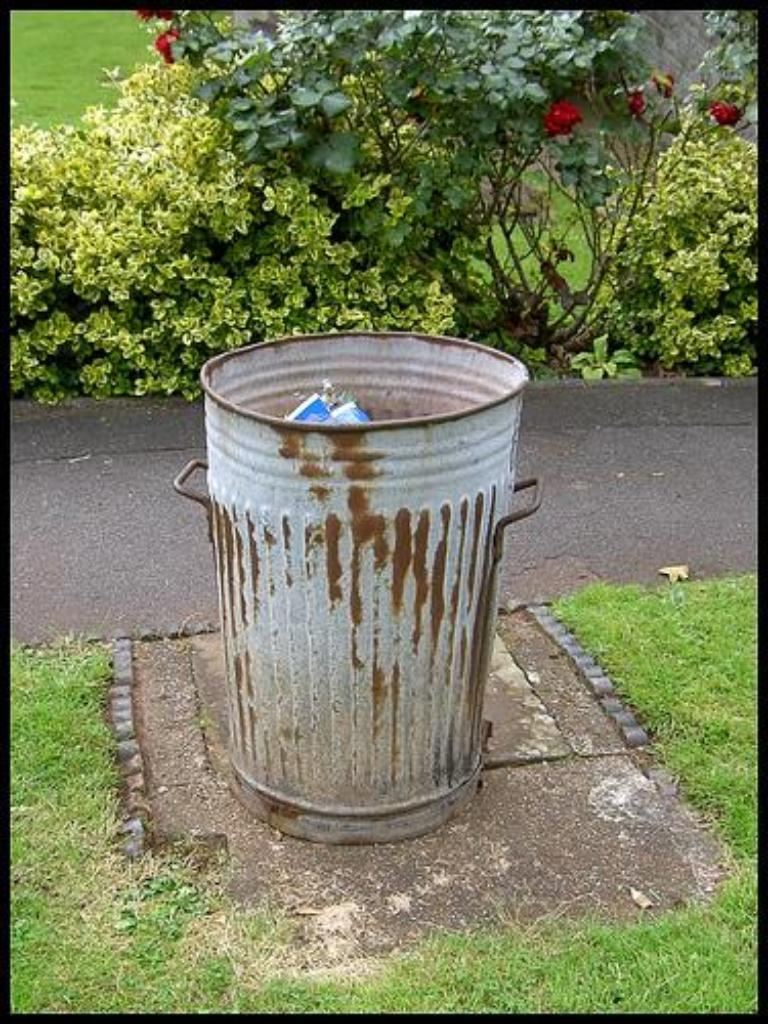dustbin: (157, 329, 552, 850)
